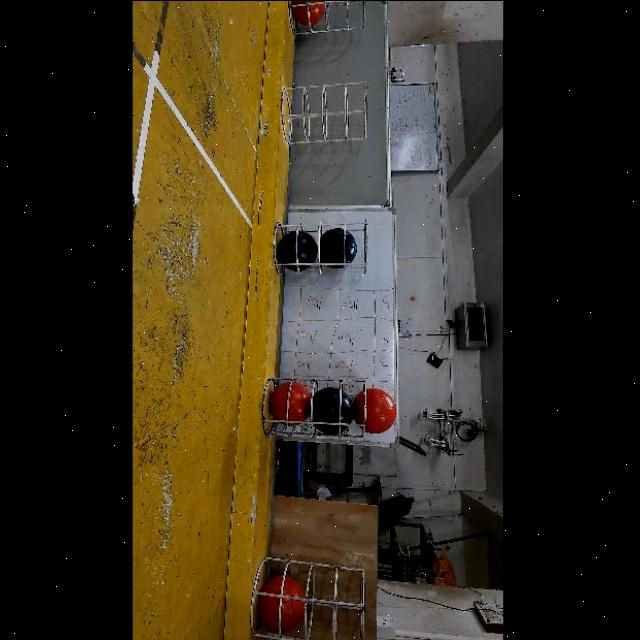P: (312, 386, 354, 435), (276, 230, 317, 271), (319, 227, 357, 267)
R: (258, 574, 305, 632), (352, 387, 396, 434), (268, 381, 311, 426), (292, 0, 325, 26)
S: (253, 556, 369, 640), (260, 368, 372, 442), (284, 74, 374, 148), (271, 218, 367, 276), (283, 0, 369, 38)
